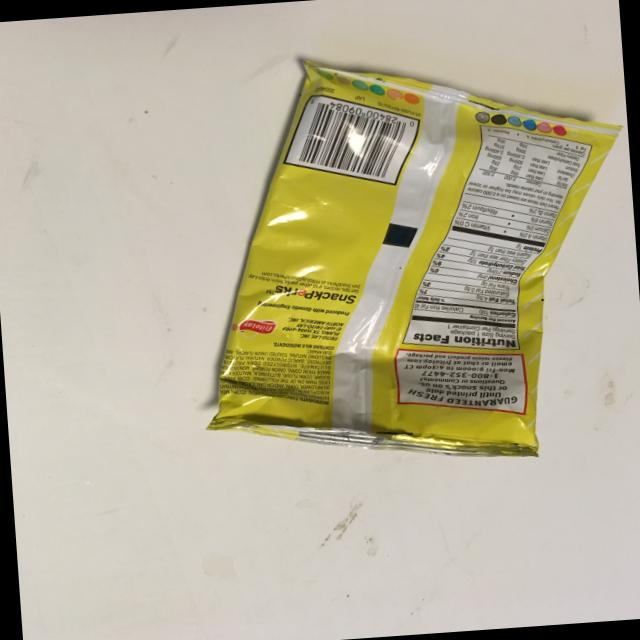Plastic: (101, 30, 640, 509)
